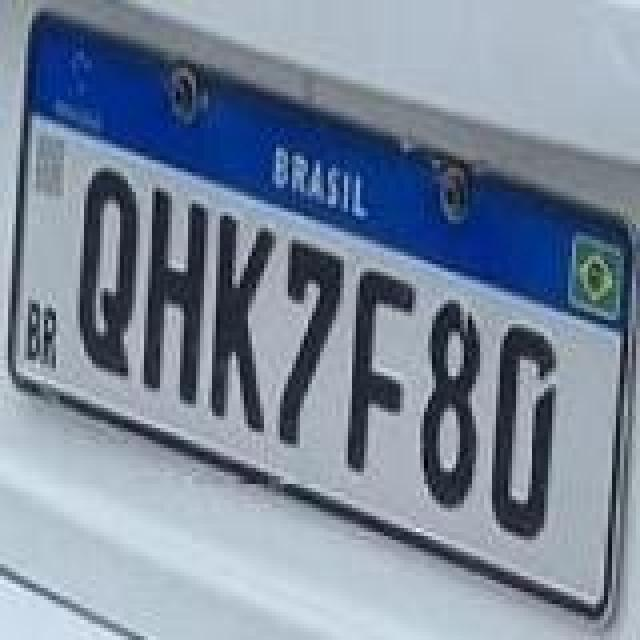7: (278, 238, 346, 450)
8: (414, 296, 482, 512)
D: (488, 324, 560, 540)
F: (348, 266, 420, 470)
H: (140, 184, 212, 408)
K: (208, 208, 280, 440)
Q: (74, 164, 142, 380)
